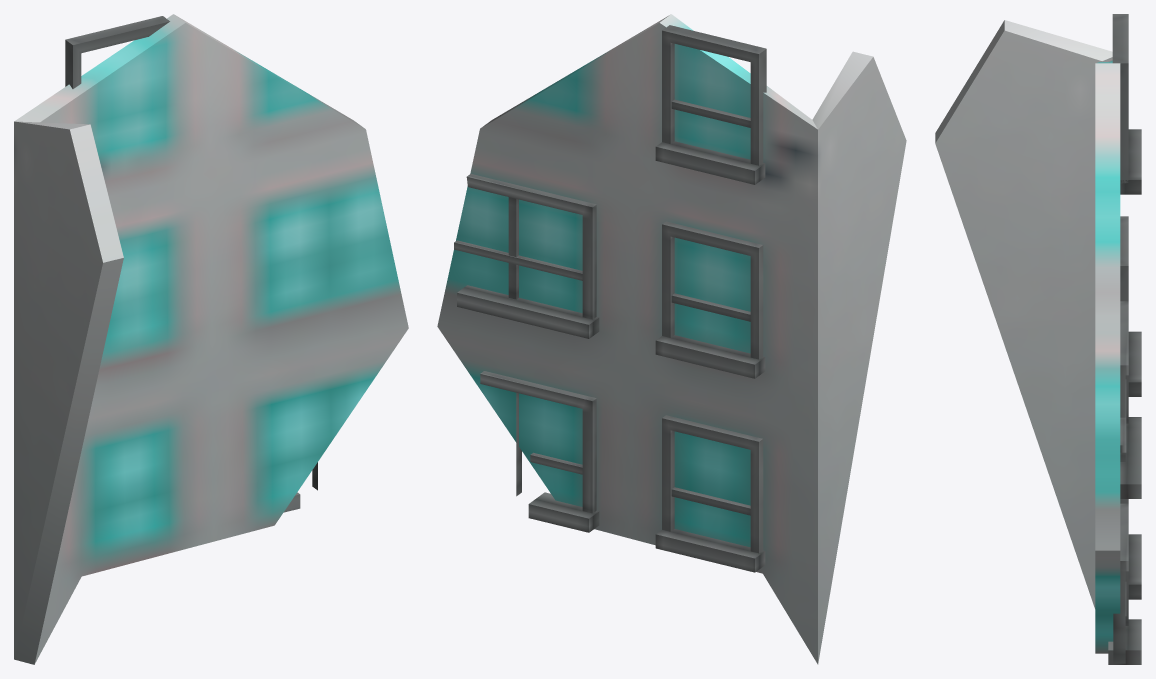
File: B6Broke03.FBX
3 views of the same model, side by side, from view 1: azimuth 30°, elevation 25°; view 2: azimuth 150°, elevation 25°; view 3: azimuth 270°, elevation 25° (orthographic). The views are drawn at different scales.
Visible parts, largest first — view 1: B6Broke03; view 2: B6Broke03; view 3: B6Broke03.
Part boxes in pixels (left/top/right/bottom): B6Broke03: left=14, top=14, right=408, bottom=664; B6Broke03: left=437, top=14, right=906, bottom=664; B6Broke03: left=935, top=14, right=1141, bottom=664.
Bounding box in the file's own units: 53.3 × 80.74 × 23.97.
